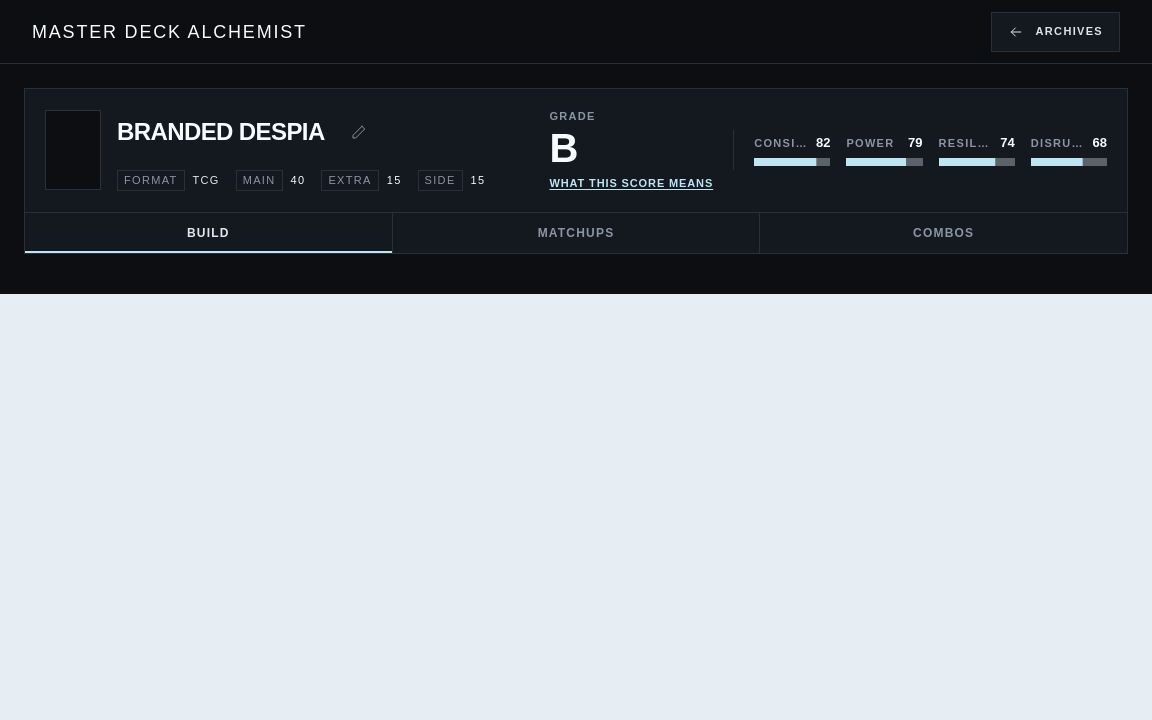
Test case: WorkshopShell › explains the score and returns focus to the link
Click the button "What this score means" at [631, 184], box [549,176,713,192]
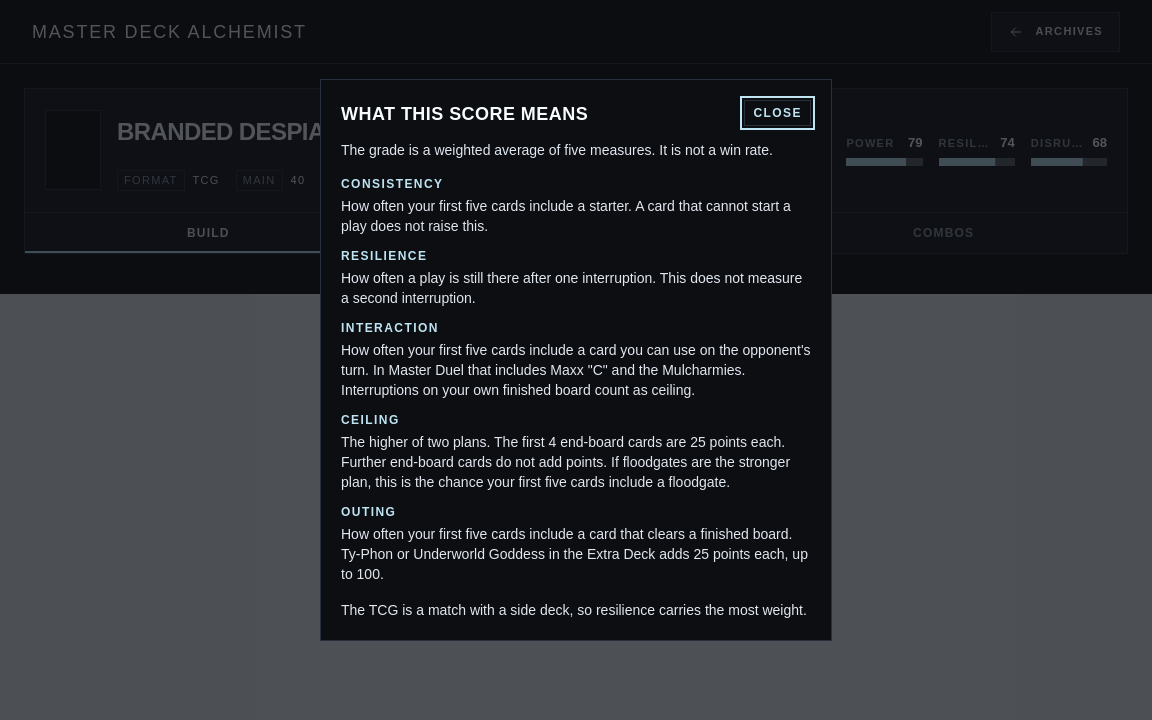
Check: the dialog "What this score means" is shown, box [320,79,832,641]
Check: the text "not a win rate" is shown, box [341,142,773,158]
Check: the text "one interruption" is shown, box [341,270,802,306]
Click the button "Close" at [778, 113], box [744,100,811,126]
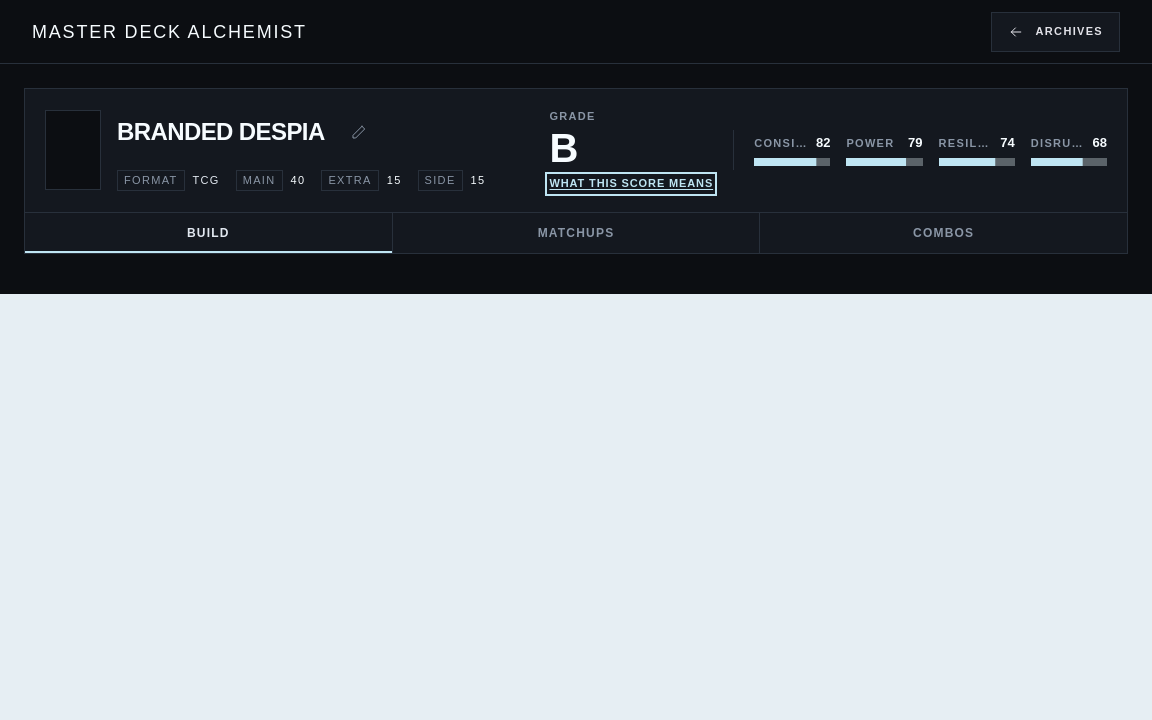
Check: the dialog is gone
